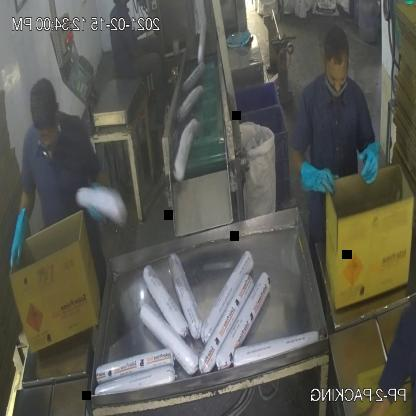glove: (4, 196, 32, 277), (294, 153, 340, 202), (356, 136, 382, 193)
